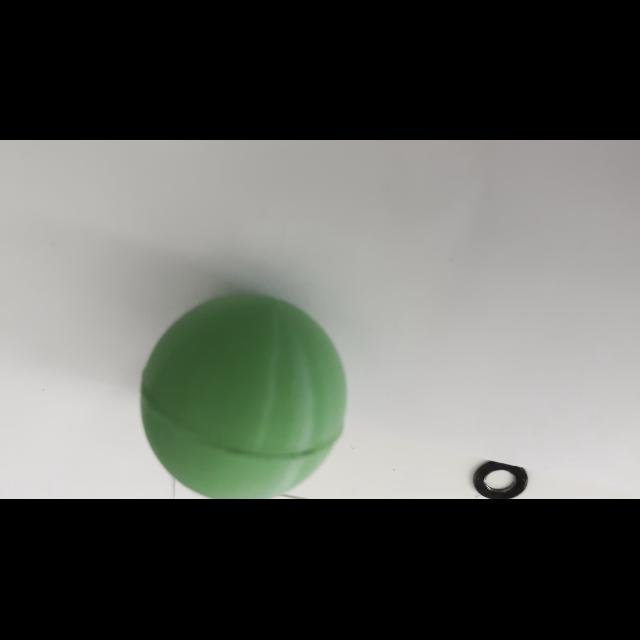objects: (138, 287, 352, 497)
